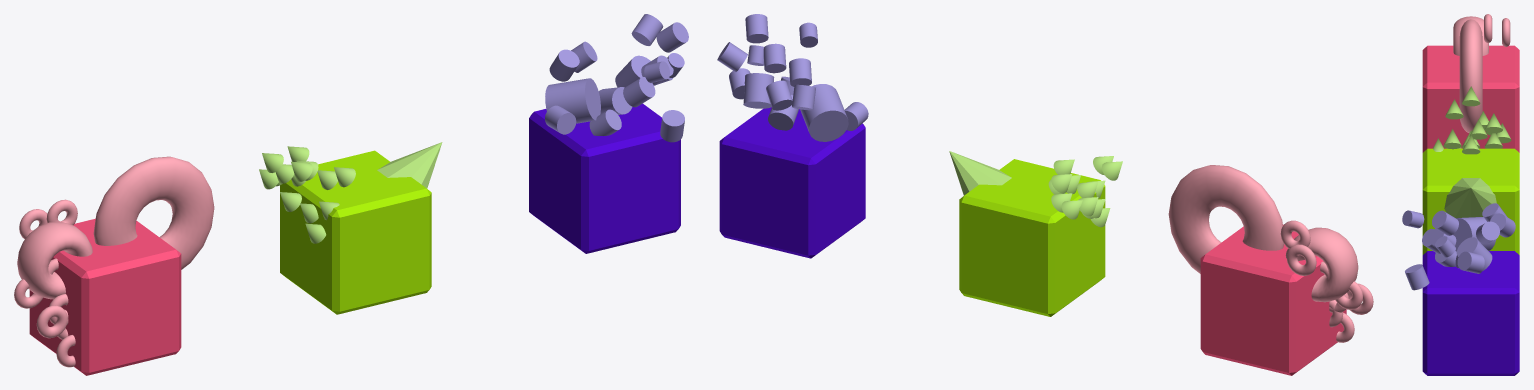
The model's file is icon.fbx.
3 views of the same model, side by side, from view 1: azimuth 30°, elevation 25°; view 2: azimuth 150°, elevation 25°; view 3: azimuth 270°, elevation 25° (orthographic). The views are drawn at different scales.
Visible parts, largest first — view 1: pCube1, pCube3, pCube2, pTorus2, pTorus1, pCylinder11, pCone1, pTorus9, pCylinder14, pCylinder12, pCylinder6, pCylinder10 (+6 smaller); view 2: pCube3, pCube1, pCube2, pTorus2, pTorus1, pCylinder11, pCone1, pCylinder3, pTorus3, pCylinder14, pCylinder7, pCylinder9 (+5 smaller); view 3: pCube3, pCube2, pCube1, pTorus2, pCone1, pCylinder11, pTorus1, pCylinder3, pCylinder5, pCylinder14, pCylinder6, pCylinder15 (+17 smaller).
Boxes of the visible parts, x1,y1,x2,y2 form: pCube1: (280, 150, 431, 314); pCube3: (529, 103, 680, 253); pCube2: (29, 218, 181, 375); pTorus2: (93, 156, 214, 269); pTorus1: (17, 221, 92, 299); pCylinder11: (545, 78, 600, 123); pCone1: (377, 142, 442, 188); pTorus9: (36, 305, 67, 338); pCylinder14: (656, 22, 688, 52); pCylinder12: (549, 49, 579, 81); pCylinder6: (660, 110, 684, 142); pCylinder10: (598, 87, 632, 114); pCube3: (719, 107, 865, 258); pCube1: (959, 159, 1105, 316); pCube2: (1200, 224, 1346, 375); pTorus2: (1168, 165, 1283, 273); pTorus1: (1285, 227, 1358, 302); pCylinder11: (800, 84, 848, 141); pCone1: (949, 151, 1011, 195); pCylinder3: (743, 73, 774, 108); pTorus3: (1286, 244, 1316, 275); pCylinder14: (745, 14, 768, 43); pCylinder7: (763, 43, 786, 73); pCylinder9: (766, 80, 792, 110); pCube3: (1422, 251, 1519, 375); pCube2: (1422, 45, 1519, 152); pCube1: (1422, 148, 1519, 254); pTorus2: (1459, 19, 1482, 132); pCone1: (1444, 178, 1496, 218); pCylinder11: (1453, 217, 1496, 251); pTorus1: (1453, 16, 1488, 55); pCylinder3: (1456, 237, 1492, 272); pCylinder5: (1457, 251, 1484, 273); pCylinder14: (1432, 210, 1458, 235); pCylinder6: (1405, 264, 1429, 290); pCylinder15: (1476, 221, 1499, 243).
Bounding box in the file's own units: 0.0659 × 0.0191 × 0.0121.
